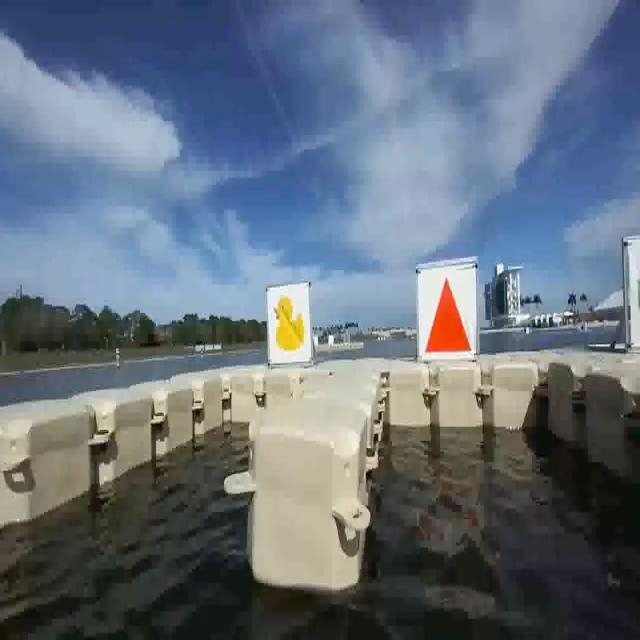red-dot: (418, 268, 477, 362)
yellow-duck: (273, 292, 305, 351)
